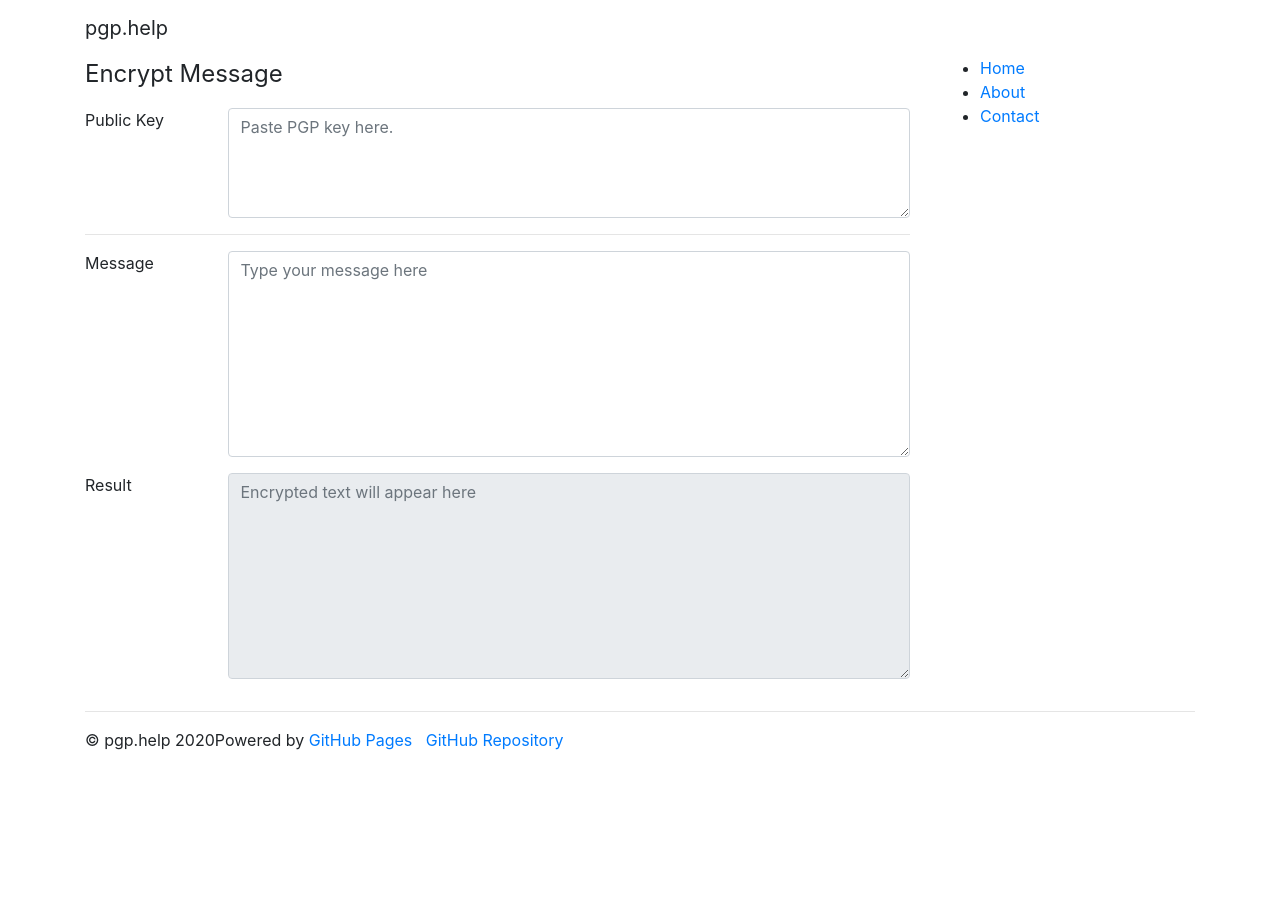
Test case: Routing kinda works
Click the link "About".
click(1003, 92)  # box [980,82,1025,102]
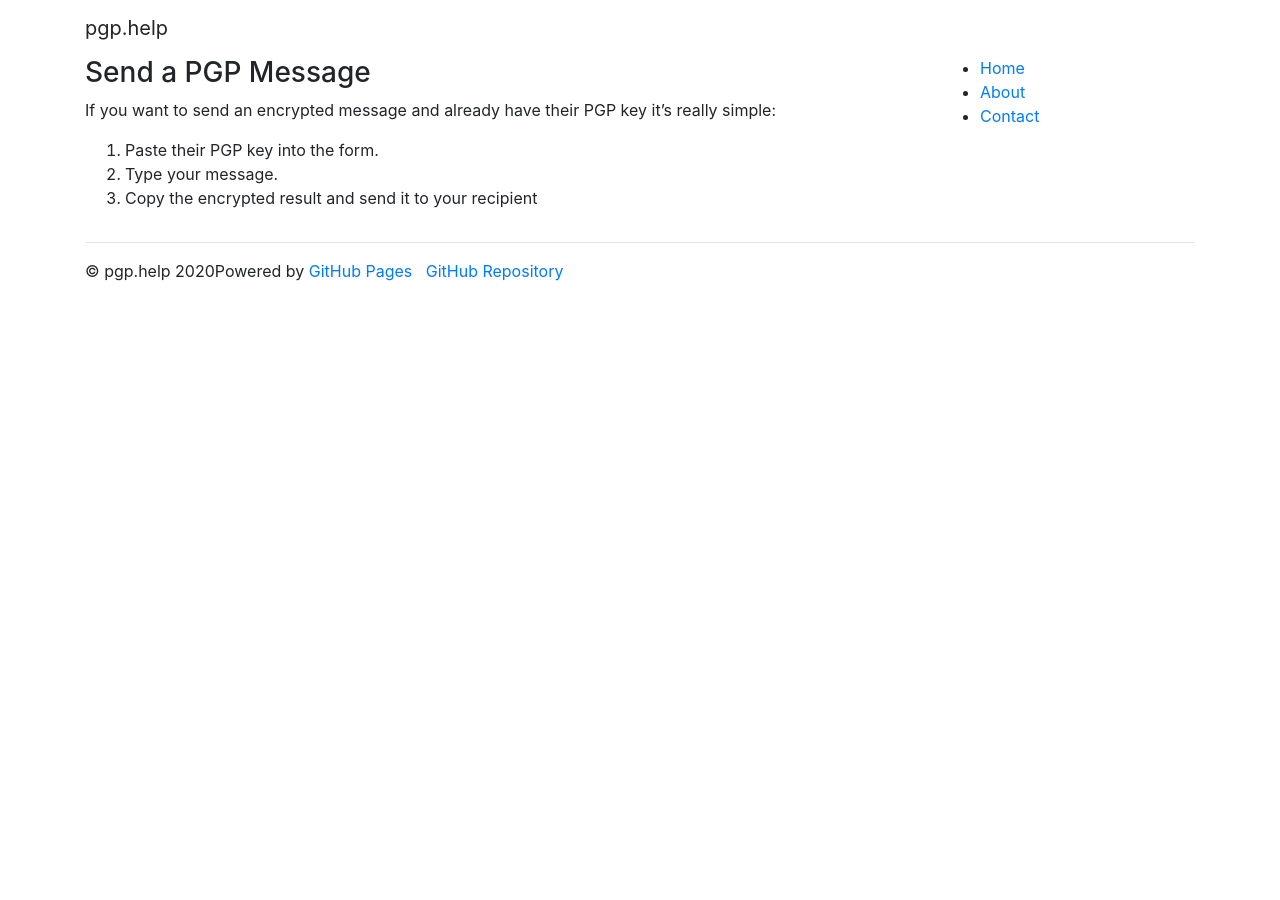
expect the text "really simple" is shown: met, box [85,100,776,120]
Click the link "Home".
click(1002, 68)  # box [980,58,1025,78]
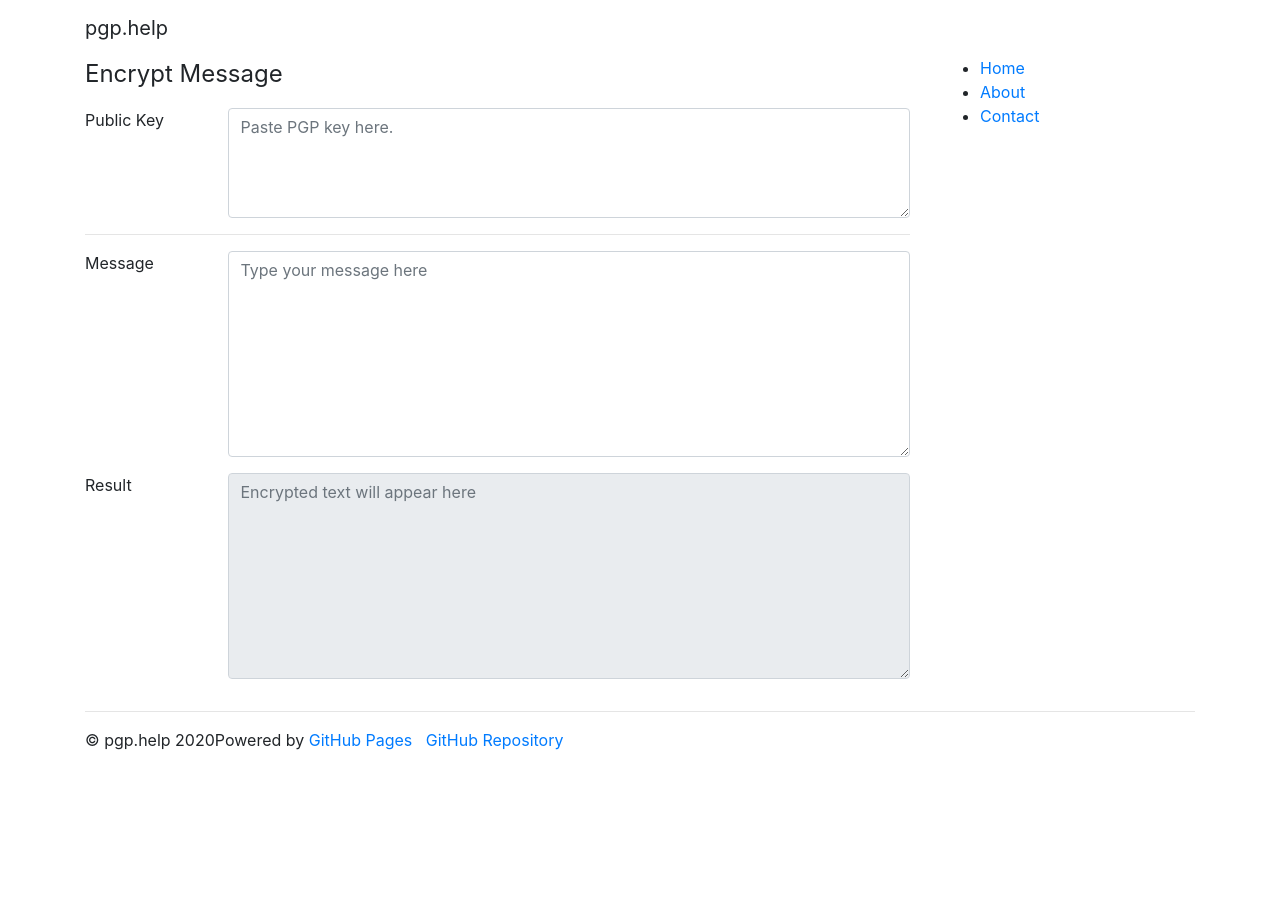
expect the text "really simple" is gone: met
